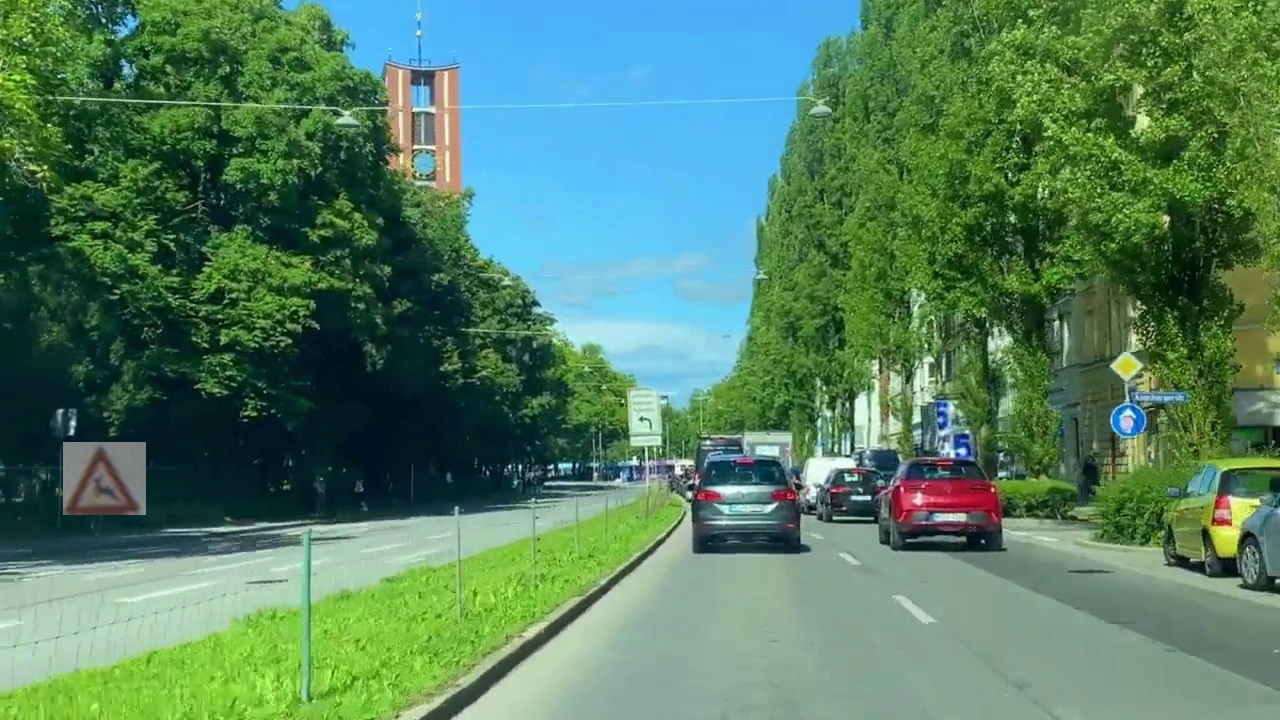Wild animals: (63, 442, 146, 515)
